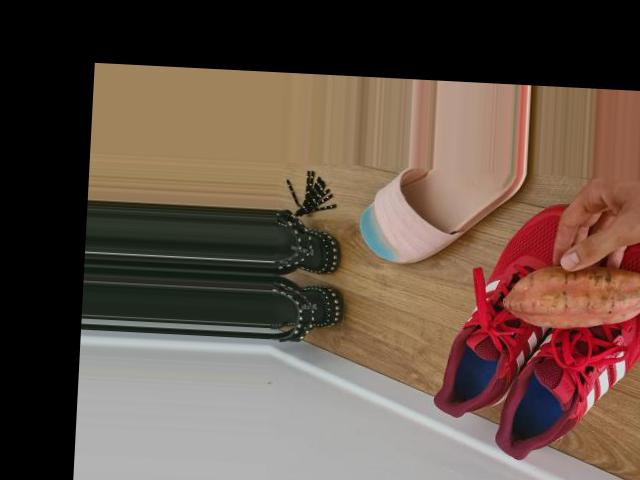sweet_potato: (502, 261, 640, 334)
